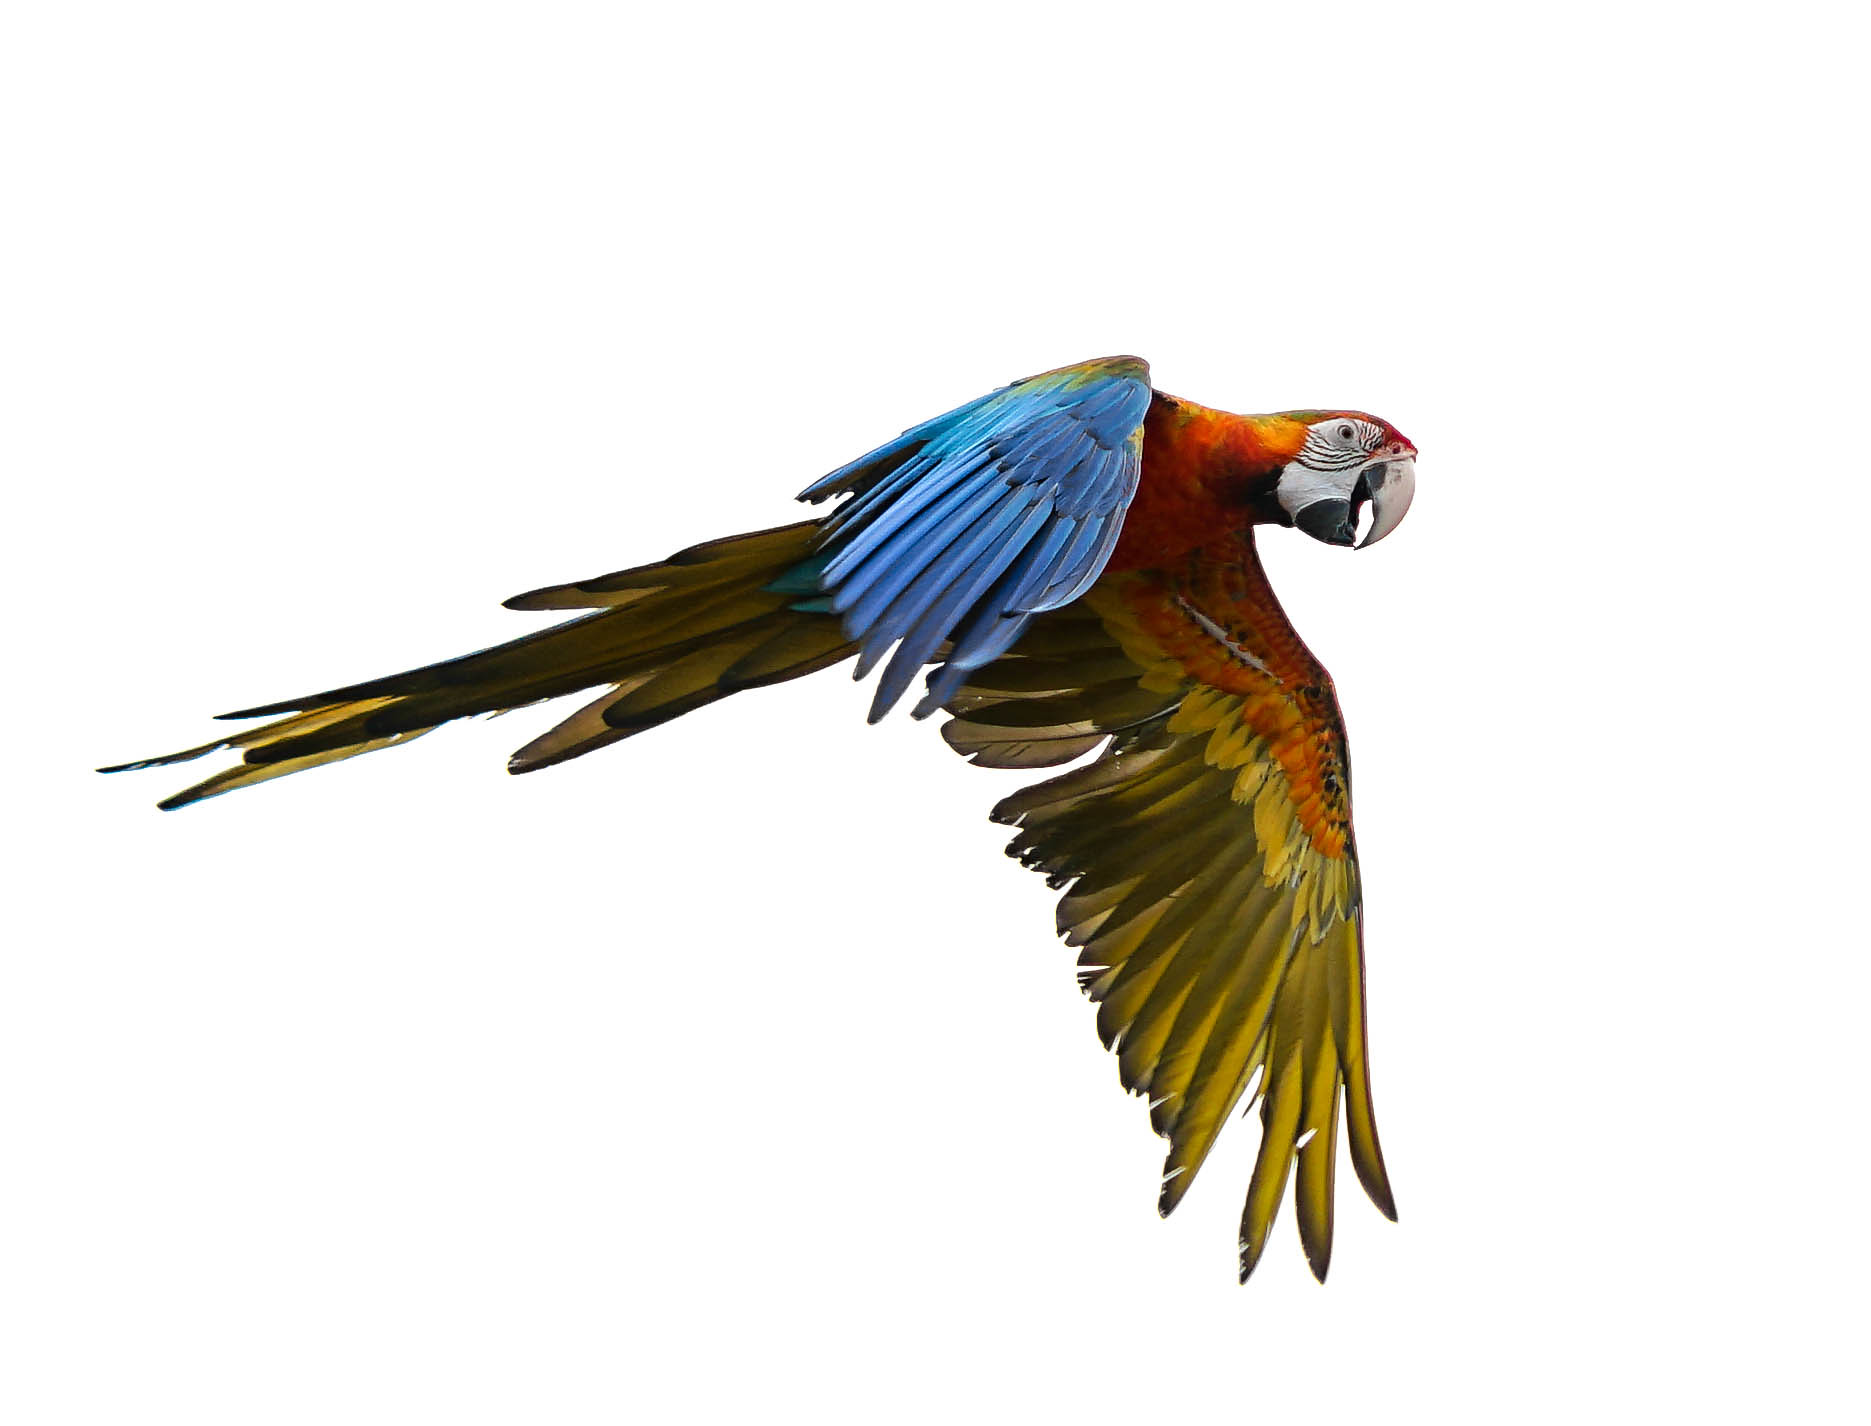bird: (150, 355, 1428, 1278)
